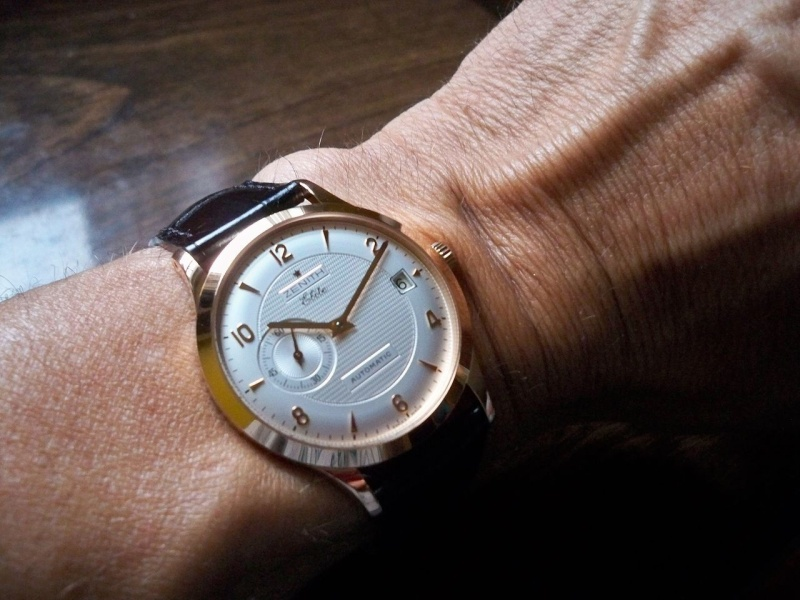clock: (215, 216, 462, 448)
